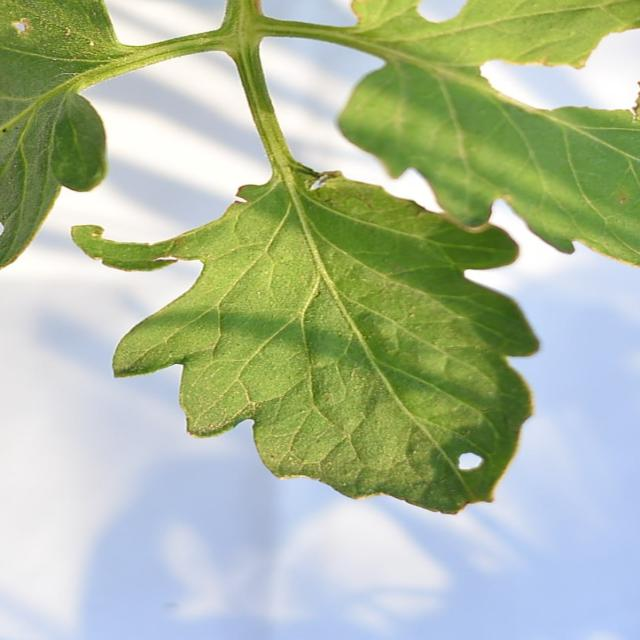infected: (64, 154, 546, 518)
